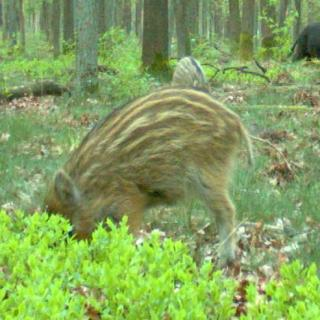Pig: (36, 80, 259, 269)
